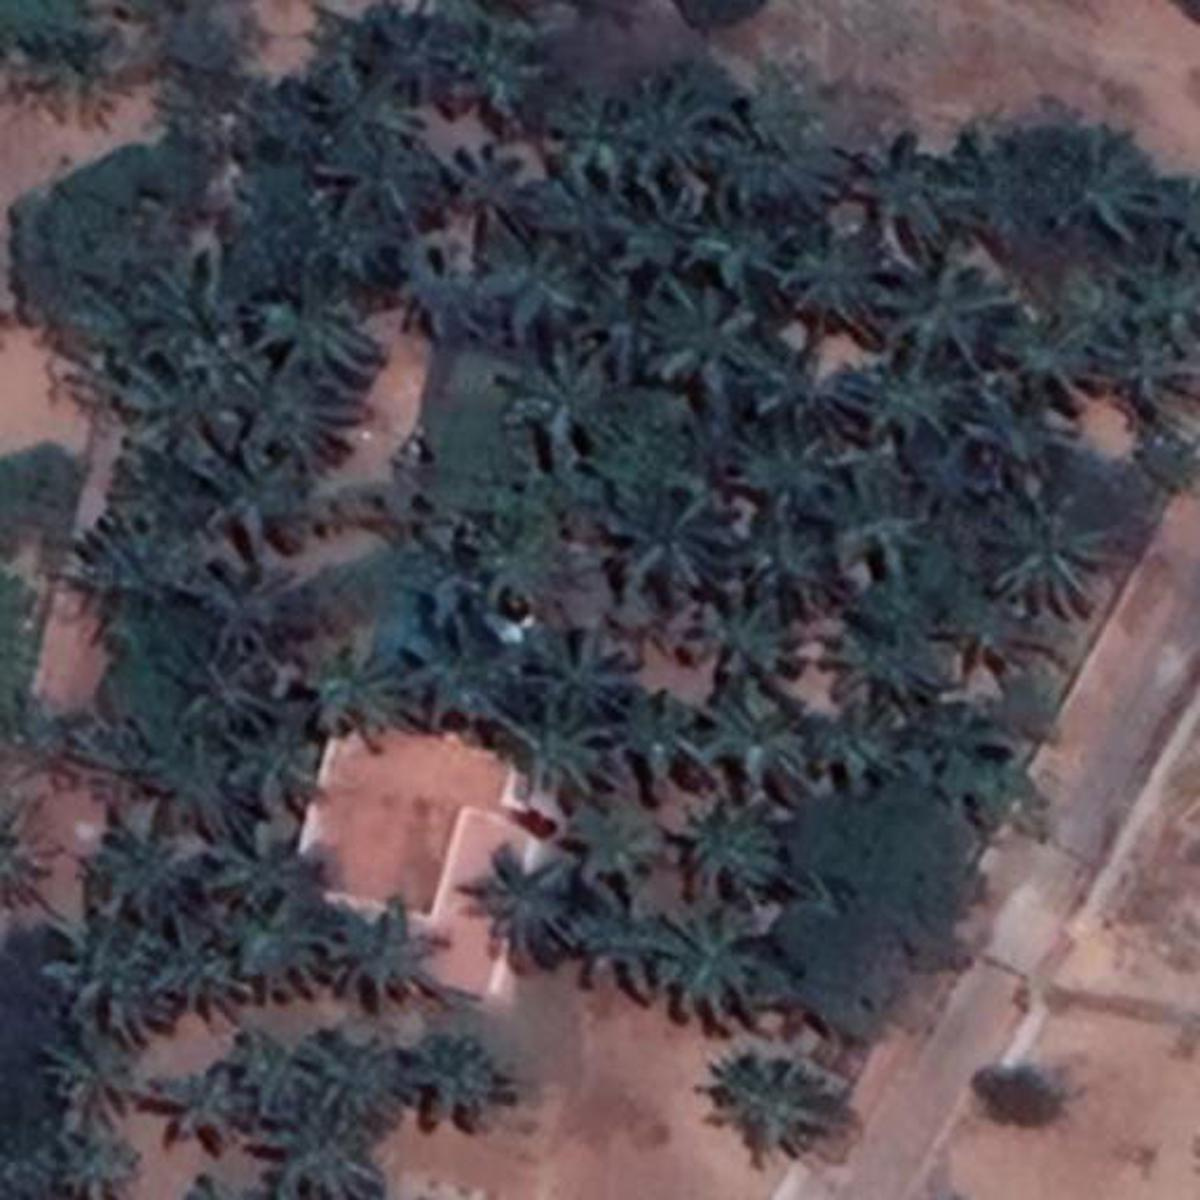coconut: (878, 251, 1021, 382), (700, 1062, 853, 1169), (82, 501, 201, 637), (646, 292, 785, 405), (459, 503, 592, 616), (996, 468, 1108, 597), (623, 79, 747, 195), (496, 689, 616, 805), (419, 618, 529, 745), (501, 325, 621, 442), (335, 897, 457, 1010), (73, 714, 215, 810), (731, 103, 855, 213), (241, 353, 363, 464), (829, 597, 953, 705), (581, 881, 682, 1014), (829, 457, 938, 578), (119, 269, 246, 373), (602, 475, 716, 588), (792, 220, 904, 332), (663, 909, 768, 1026), (264, 297, 391, 393), (700, 670, 805, 782), (201, 447, 316, 549), (208, 832, 338, 921), (1003, 302, 1108, 412), (867, 121, 970, 232), (602, 187, 719, 285), (468, 848, 574, 956), (316, 131, 427, 232), (215, 716, 325, 815), (684, 805, 796, 902), (138, 363, 243, 466), (318, 1024, 421, 1127), (311, 642, 412, 747), (205, 564, 325, 653), (93, 801, 201, 897), (548, 618, 642, 727), (630, 689, 721, 801), (795, 700, 916, 782), (665, 584, 785, 667), (724, 433, 827, 529), (49, 935, 157, 1026), (501, 234, 590, 344), (555, 805, 667, 892), (1078, 126, 1162, 241), (229, 916, 338, 1003), (1120, 243, 1200, 360), (464, 23, 562, 119), (373, 7, 457, 114), (416, 1035, 516, 1125), (140, 923, 234, 1016), (222, 1024, 311, 1122), (846, 365, 963, 440), (192, 646, 285, 740), (405, 253, 492, 344), (726, 516, 816, 602), (935, 700, 1016, 795), (260, 1134, 398, 1188), (44, 1125, 147, 1197), (157, 1064, 243, 1146), (691, 222, 795, 290), (49, 1040, 149, 1108), (571, 96, 627, 180)
